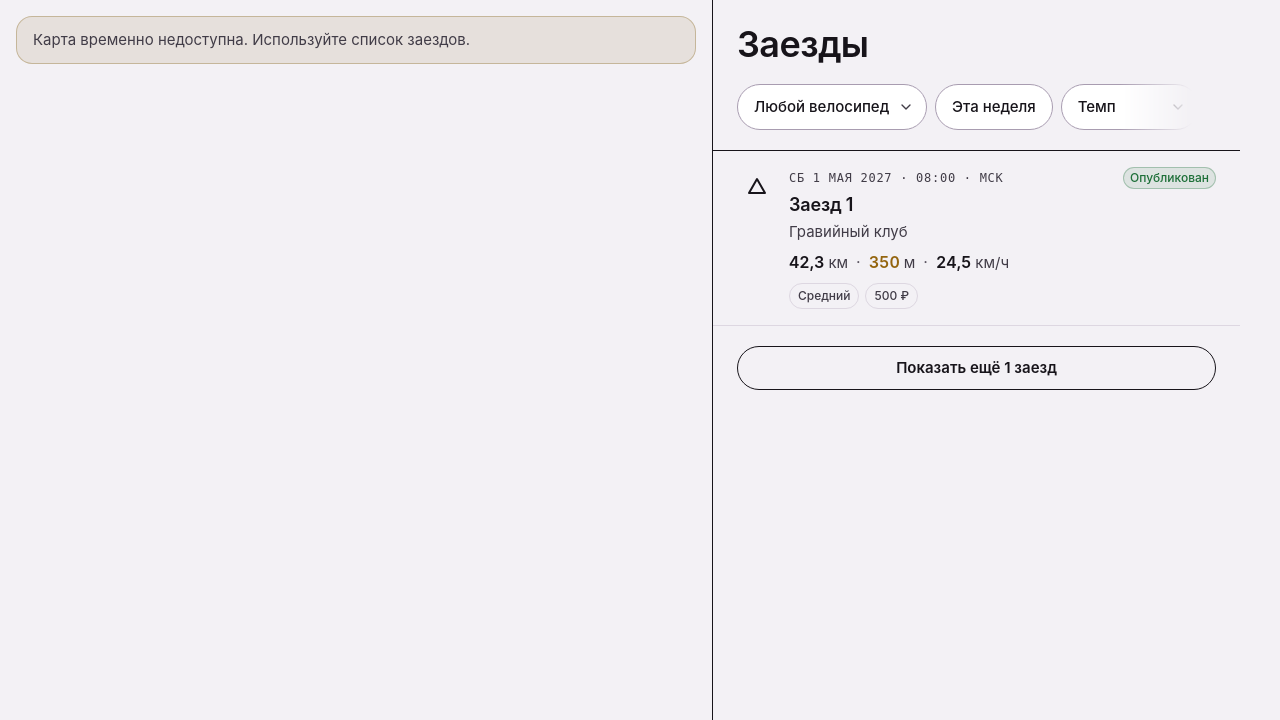
DiscoveryList › pagination › keeps the loaded rides and shows an error when the next page fails
Expected: the link "Заезд 1" is shown, [789,194,853,215]
What coordinates should you click on to do the following:
click the button "Показать ещё 1 заезд"
I would click on:
 (976, 368)
Its box is [737,346,1216,390].
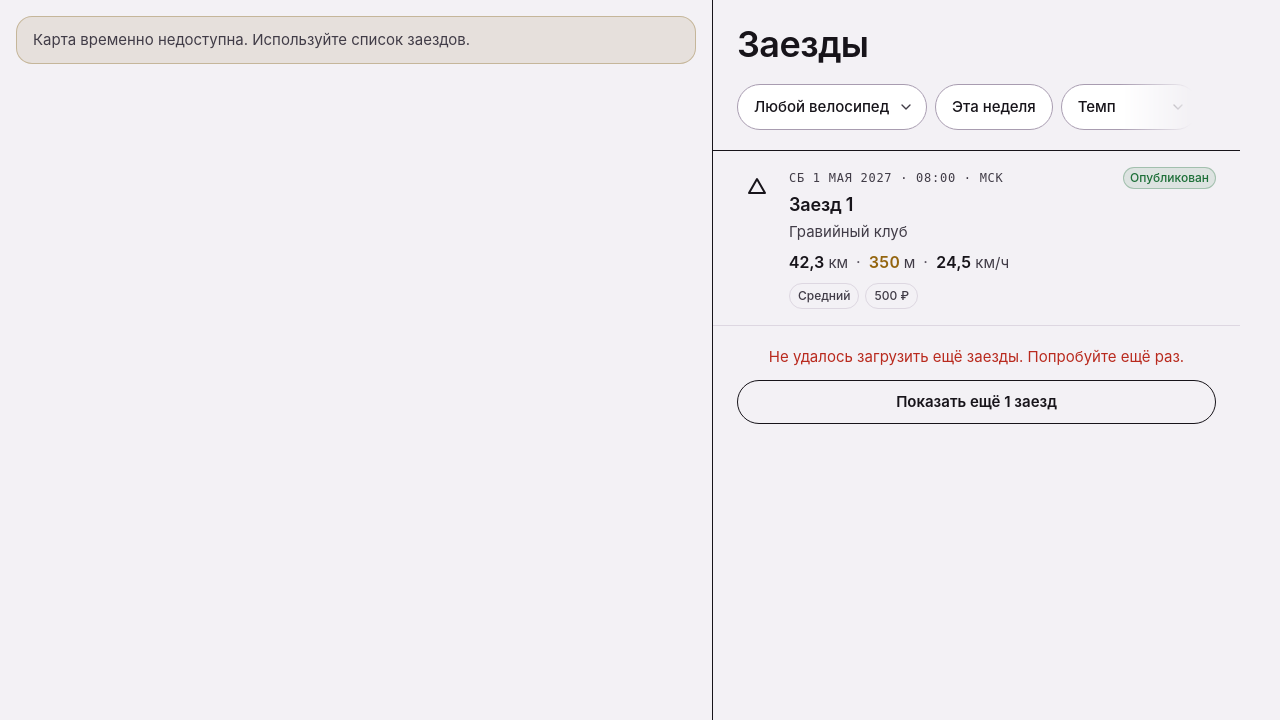
Expected: the link "Заезд 1" is shown, [789,194,853,215]
Result: the message "Не удалось загрузить ещё заезды. Попробуйте ещё раз." is shown at [769,346,1184,368]
